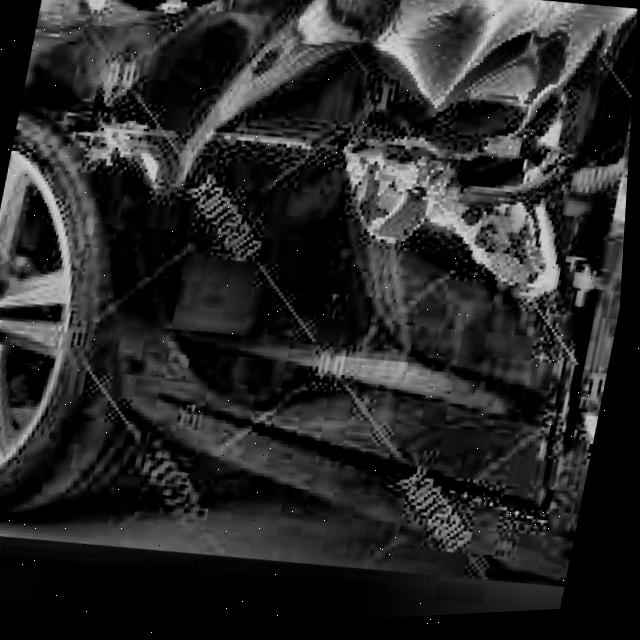door_dent: (304, 0, 634, 299)
